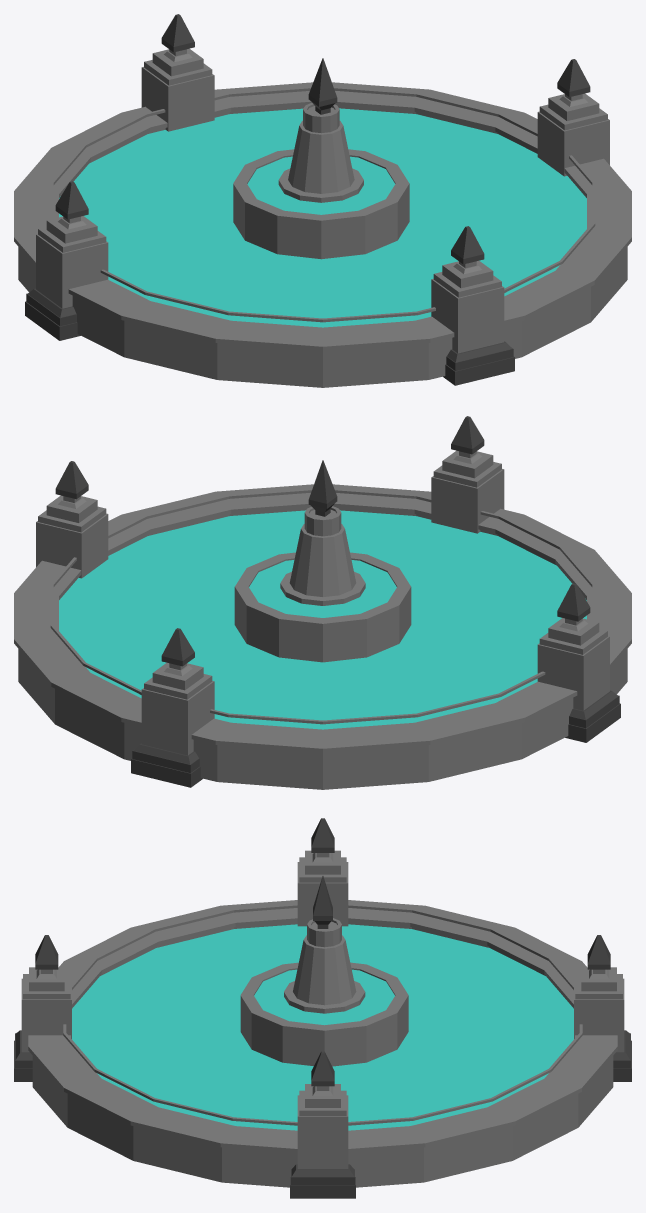
Rendered from SM_fountain_01.fbx.
The picture shows the model from 3 angles, top to bottom: view 1: azimuth 30°, elevation 25°; view 2: azimuth 150°, elevation 25°; view 3: azimuth 270°, elevation 25°; orthographic projection. The views are drawn at different scales.
Visible parts, largest first — view 1: Cylinder133; view 2: Cylinder133; view 3: Cylinder133.
Part boxes in pixels (bbox=[...]): Cylinder133: bbox=[14, 14, 631, 387]; Cylinder133: bbox=[14, 416, 631, 789]; Cylinder133: bbox=[14, 818, 631, 1198].
Bounding box in the file's own units: 348 × 119 × 348.
